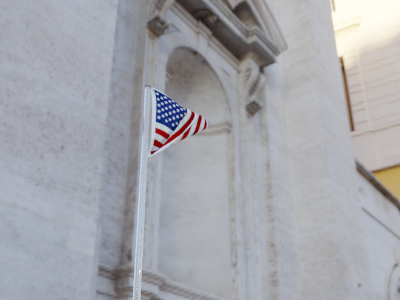America flag: (151, 87, 210, 156)
